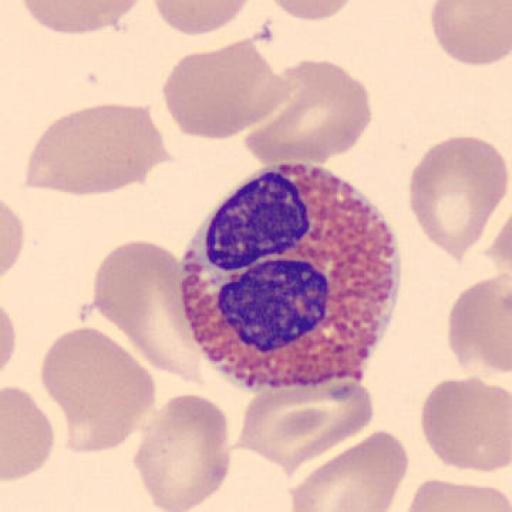RBC: (90, 240, 206, 381), (38, 324, 158, 456), (241, 58, 373, 166), (235, 376, 377, 476), (24, 102, 168, 198), (161, 37, 291, 141), (408, 134, 509, 262), (132, 392, 231, 512), (288, 431, 410, 511), (419, 375, 512, 473), (183, 443, 296, 512), (448, 273, 512, 374), (429, 0, 512, 66), (2, 384, 56, 482), (18, 0, 144, 37), (153, 0, 252, 37), (404, 479, 512, 512), (1, 195, 25, 280), (270, 0, 358, 23), (0, 301, 18, 373)
WBC: (179, 162, 400, 394)
